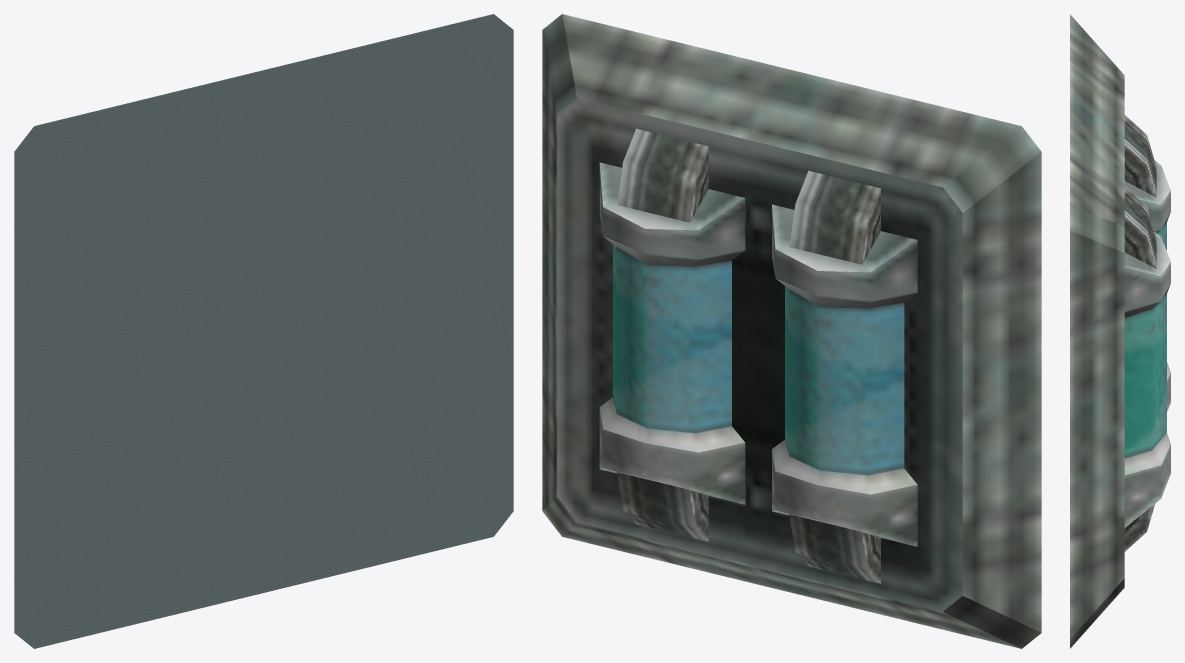
The model's file is Battery_double.FBX.
3 renders of one model, left to right at view 1: azimuth 30°, elevation 25°; view 2: azimuth 150°, elevation 25°; view 3: azimuth 270°, elevation 25°, orthographic. The views are drawn at different scales.
Parts seen in each view (by area): view 1: Battery_double; view 2: Battery_double; view 3: Battery_double.
Part boxes in pixels (x1=…): Battery_double: x1=14, y1=14, x2=513, y2=648; Battery_double: x1=542, y1=14, x2=1041, y2=648; Battery_double: x1=1070, y1=14, x2=1170, y2=648.
Bounding box in the file's own units: 150 × 150 × 30.89.
